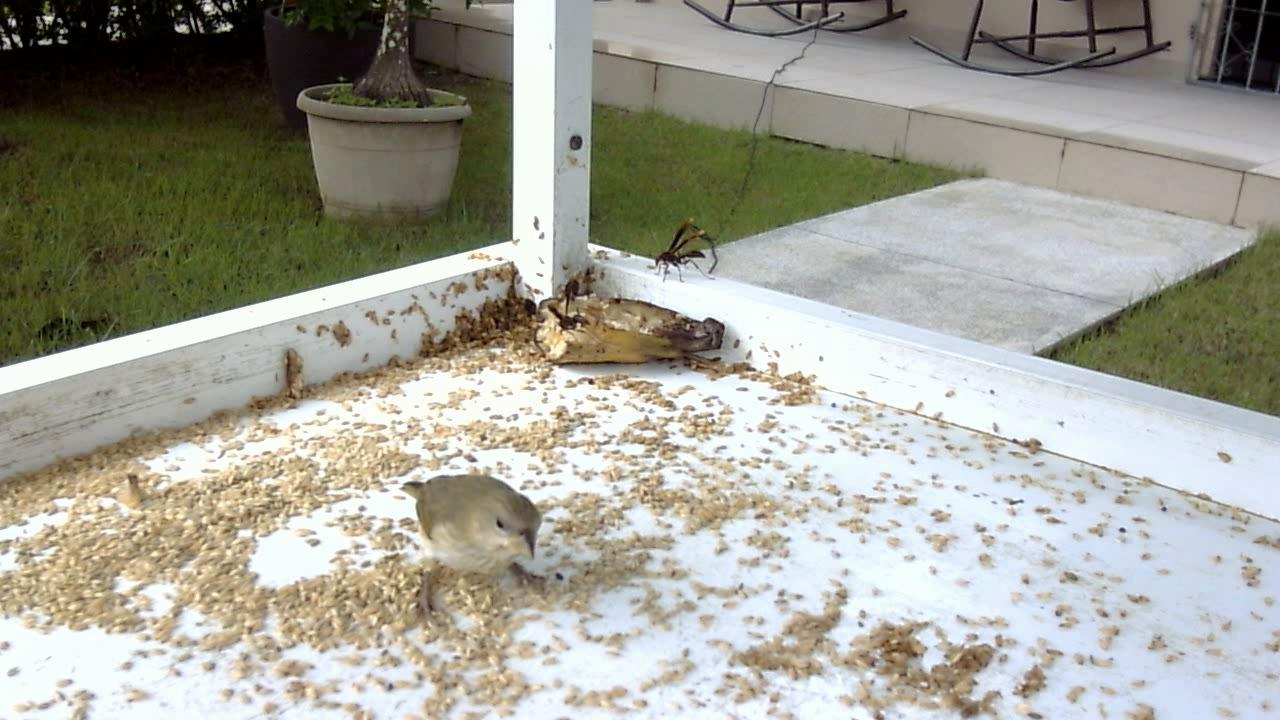canario_do_amazonas: (386, 466, 554, 623)
